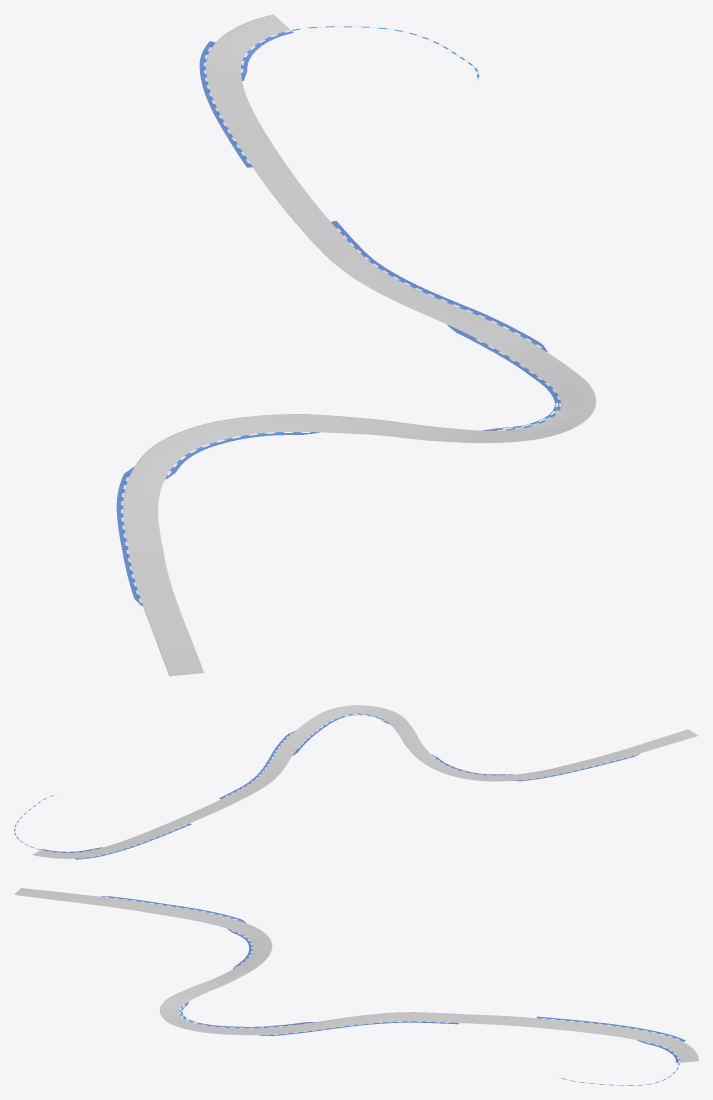
File: track_road_infield2.dae
The picture shows the model from 3 angles, top to bottom: view 1: azimuth 30°, elevation 25°; view 2: azimuth 150°, elevation 25°; view 3: azimuth 270°, elevation 25°; orthographic projection. The views are drawn at different scales.
Parts seen in each view (by area): view 1: road_track_infield2_a6000; view 2: road_track_infield2_a6000; view 3: road_track_infield2_a6000.
Part boxes in pixels (box(x1,y1,x2,y2)): road_track_infield2_a6000: box(116, 14, 596, 676); road_track_infield2_a6000: box(14, 705, 698, 859); road_track_infield2_a6000: box(14, 888, 698, 1085).
Size of the model in its own units: 299 by 396 by 16.16.
